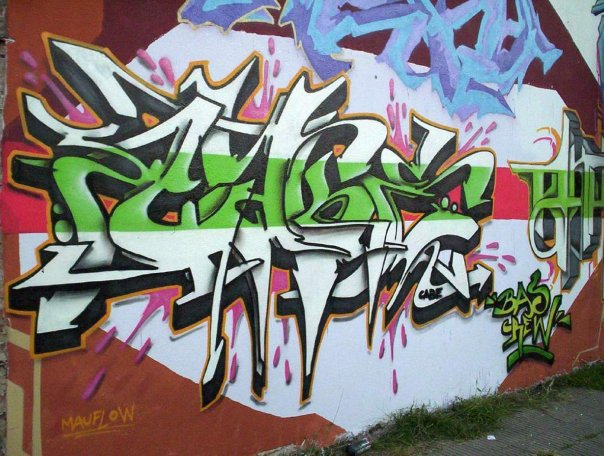graffity: (2, 1, 603, 435)
